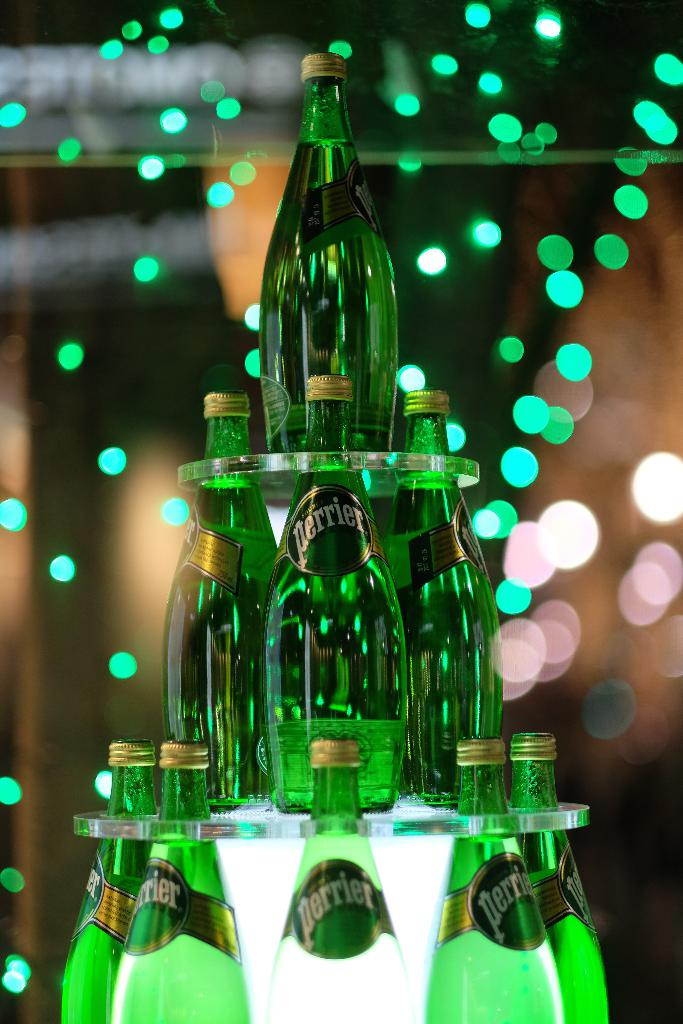can: (62, 53, 609, 1024)
